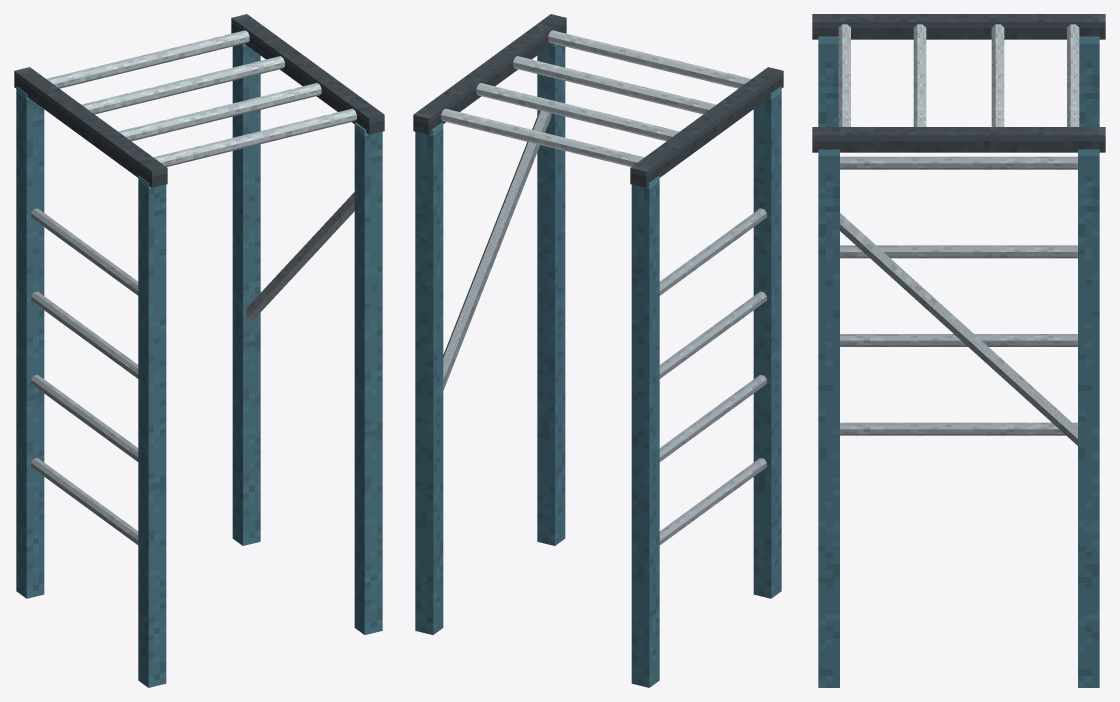
File: f_parkour_bars.glb
3 renders of one model, left to right at view 1: azimuth 30°, elevation 25°; view 2: azimuth 150°, elevation 25°; view 3: azimuth 270°, elevation 25°, orthographic. The views are drawn at different scales.
Visible parts, largest first — view 1: block_leg-0.408-0.398, block_leg--0.408-0.398, block_leg--0.408--0.398, block_leg-0.408--0.398, block_side-ladder-rung (×4), block_overhead-rail--0.41, block_overhead-rail-0.41, block_rung-0.12, block_rung--0.35, block_rung--0.12, block_rung-0.35, block_diagonal-rail-1; view 2: block_leg-0.408--0.398, block_leg--0.408--0.398, block_leg--0.408-0.398, block_leg-0.408-0.398, block_side-ladder-rung (×4), block_overhead-rail--0.41, block_overhead-rail-0.41, block_diagonal-rail-1, block_rung--0.12, block_rung--0.35, block_rung-0.12, block_rung-0.35; view 3: block_side-ladder-rung (×4), block_leg-0.408--0.398, block_leg-0.408-0.398, block_overhead-rail-0.41, block_overhead-rail--0.41, block_diagonal-rail-1, block_leg--0.408--0.398, block_leg--0.408-0.398, block_rung--0.12, block_rung-0.12, block_rung--0.35, block_rung-0.35.
Boxes of the visible parts, x1=… form: block_leg-0.408-0.398: x1=354, y1=122, x2=382, y2=634; block_leg--0.408-0.398: x1=138, y1=175, x2=166, y2=687; block_leg--0.408--0.398: x1=16, y1=86, x2=44, y2=598; block_leg-0.408--0.398: x1=232, y1=43, x2=260, y2=545; block_side-ladder-rung (×4): x1=31, y1=208, x2=138, y2=544; block_overhead-rail--0.41: x1=14, y1=67, x2=167, y2=187; block_overhead-rail-0.41: x1=231, y1=14, x2=384, y2=134; block_rung-0.12: x1=118, y1=83, x2=321, y2=141; block_rung--0.35: x1=46, y1=30, x2=249, y2=88; block_rung--0.12: x1=81, y1=56, x2=284, y2=114; block_rung-0.35: x1=153, y1=108, x2=356, y2=166; block_diagonal-rail-1: x1=246, y1=192, x2=354, y2=319; block_leg-0.408--0.398: x1=415, y1=122, x2=443, y2=634; block_leg--0.408--0.398: x1=631, y1=175, x2=659, y2=687; block_leg--0.408-0.398: x1=753, y1=86, x2=781, y2=598; block_leg-0.408-0.398: x1=537, y1=43, x2=565, y2=545; block_side-ladder-rung (×4): x1=659, y1=208, x2=766, y2=544; block_overhead-rail--0.41: x1=630, y1=67, x2=783, y2=187; block_overhead-rail-0.41: x1=413, y1=14, x2=566, y2=134; block_diagonal-rail-1: x1=443, y1=110, x2=551, y2=390; block_rung--0.12: x1=476, y1=83, x2=679, y2=141; block_rung--0.35: x1=441, y1=108, x2=644, y2=166; block_rung-0.12: x1=513, y1=56, x2=716, y2=114; block_rung-0.35: x1=548, y1=30, x2=751, y2=88; block_side-ladder-rung (×4): x1=840, y1=156, x2=1077, y2=435; block_leg-0.408--0.398: x1=1078, y1=149, x2=1099, y2=687; block_leg-0.408-0.398: x1=818, y1=149, x2=839, y2=687; block_overhead-rail-0.41: x1=812, y1=127, x2=1105, y2=152; block_overhead-rail--0.41: x1=812, y1=14, x2=1105, y2=39; block_diagonal-rail-1: x1=840, y1=213, x2=1077, y2=445; block_leg--0.408--0.398: x1=1079, y1=36, x2=1099, y2=126; block_leg--0.408-0.398: x1=818, y1=36, x2=838, y2=126; block_rung--0.12: x1=991, y1=24, x2=1004, y2=126; block_rung-0.12: x1=913, y1=24, x2=926, y2=126; block_rung--0.35: x1=1067, y1=24, x2=1079, y2=126; block_rung-0.35: x1=838, y1=24, x2=850, y2=126.
Size of the model in its own units: 0.883 by 1.87 by 0.9.
1 material, 1 textured.
